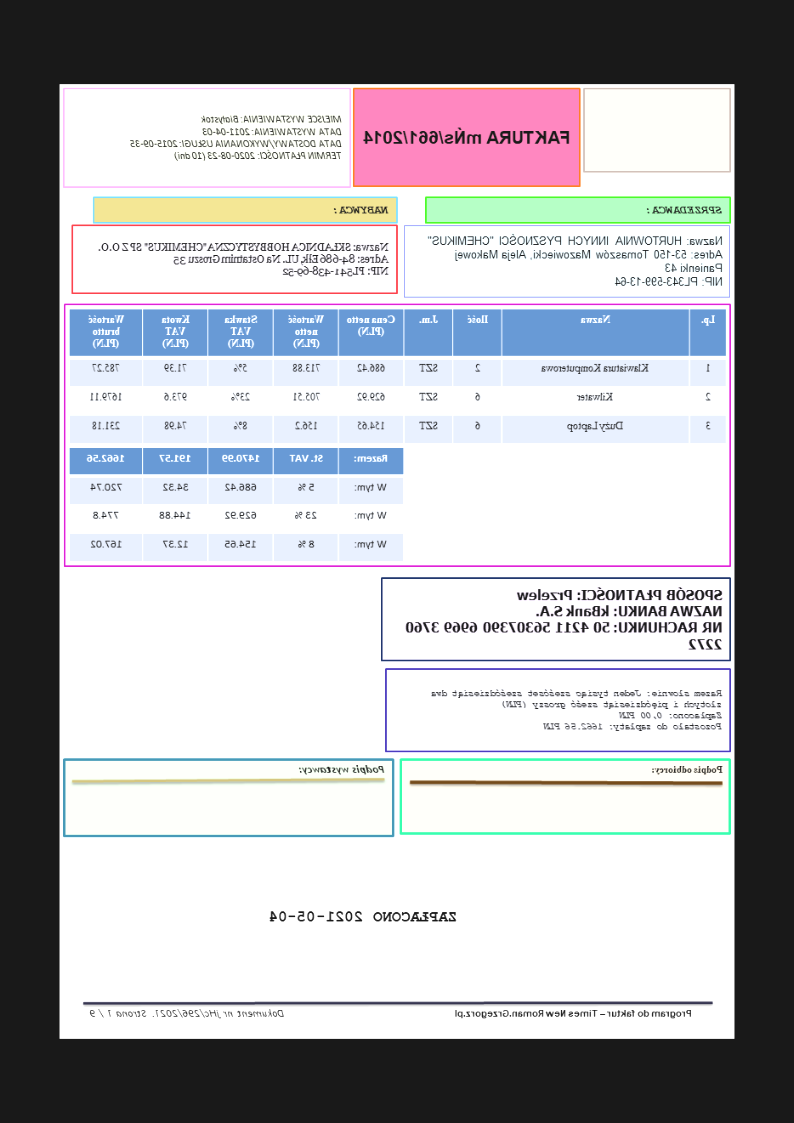Table: (69, 308, 727, 445), (68, 446, 406, 563)
TextBox: (405, 586, 725, 653), (425, 232, 725, 289), (428, 686, 724, 733), (96, 239, 391, 279), (128, 112, 343, 162), (361, 126, 571, 146), (453, 1007, 694, 1021), (267, 908, 458, 925), (88, 1006, 286, 1020), (298, 763, 387, 776), (645, 204, 723, 216), (652, 763, 724, 776), (332, 204, 391, 216)
